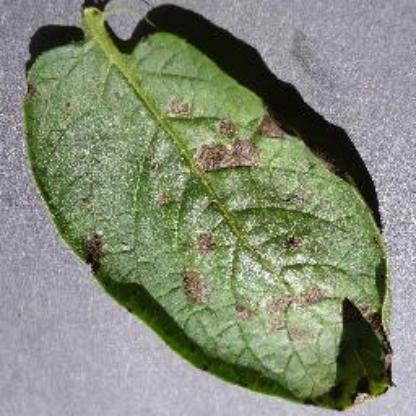Early-Blight: (21, 7, 402, 406)
